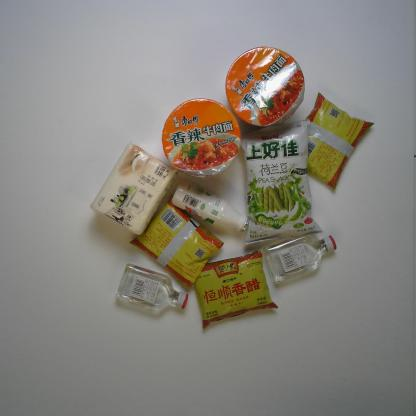Alcohol: (260, 232, 338, 284), (114, 261, 189, 315)
Instant Noodles: (160, 96, 244, 180), (223, 44, 306, 128)
Milk: (170, 176, 253, 235)
Puffed Food: (238, 118, 324, 247)
Seasoner: (127, 192, 226, 291), (301, 91, 375, 191), (192, 249, 280, 330)
Tissue: (89, 139, 180, 237)
